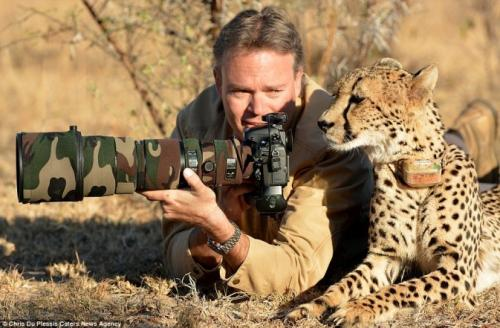fall: (115, 5, 387, 315)
